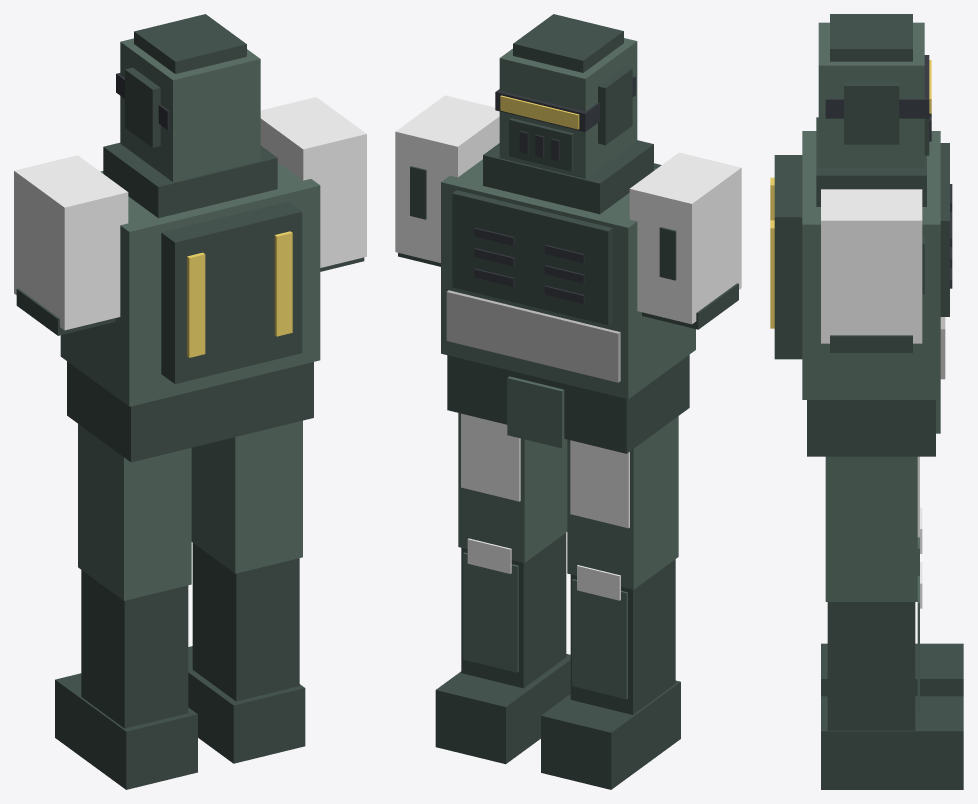
File: MARINE.gltf
3 renders of one model, left to right at view 1: azimuth 30°, elevation 25°; view 2: azimuth 150°, elevation 25°; view 3: azimuth 270°, elevation 25°, orthographic. The views are drawn at different scales.
Visible parts, largest first — view 1: MARINE; view 2: MARINE; view 3: MARINE.
Boxes of the visible parts, x1,y1,x2,y2 form: MARINE: (14, 14, 366, 789); MARINE: (395, 14, 741, 789); MARINE: (770, 14, 963, 789).
Size of the model in its own units: 0.77 by 1.71 by 0.42.
